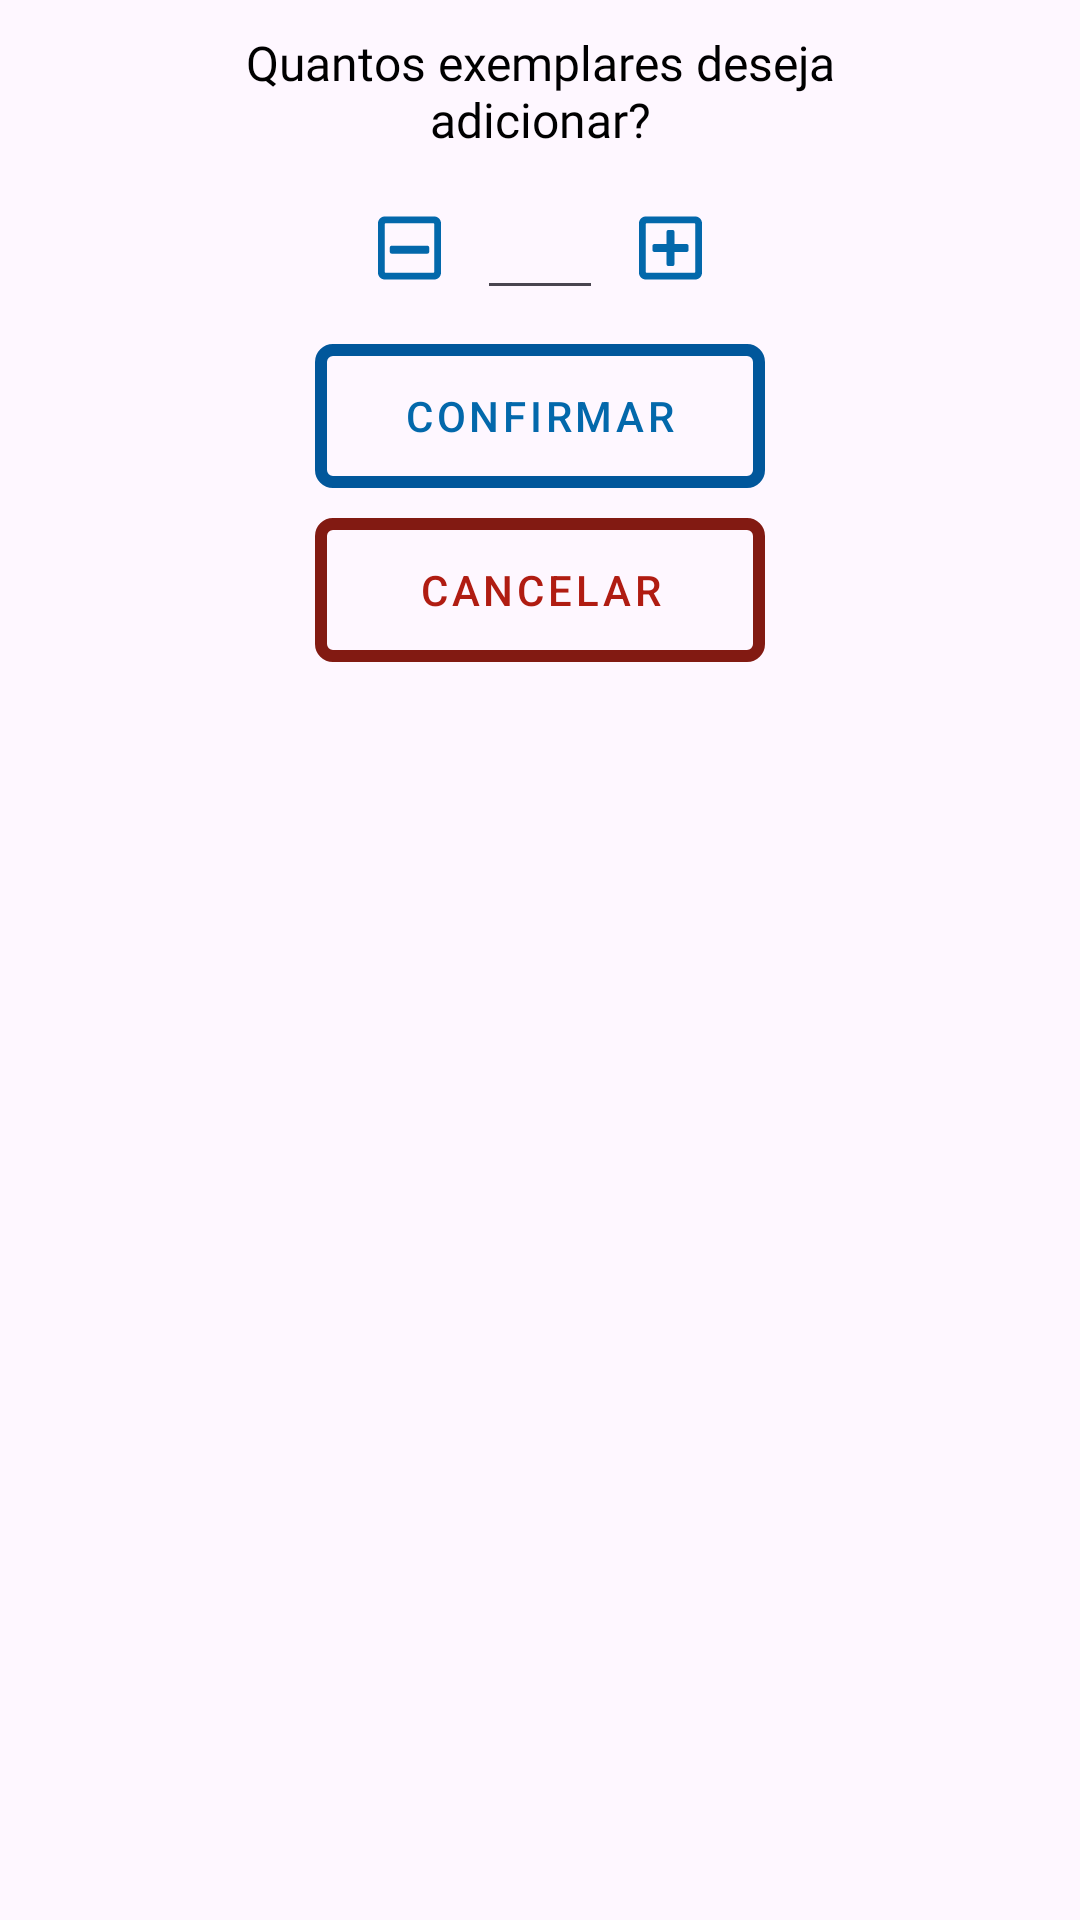

Named icons in this screenshot (1080*1920) and their centers, point (x, y):
minus: point (409, 248)
plus: point (670, 248)
